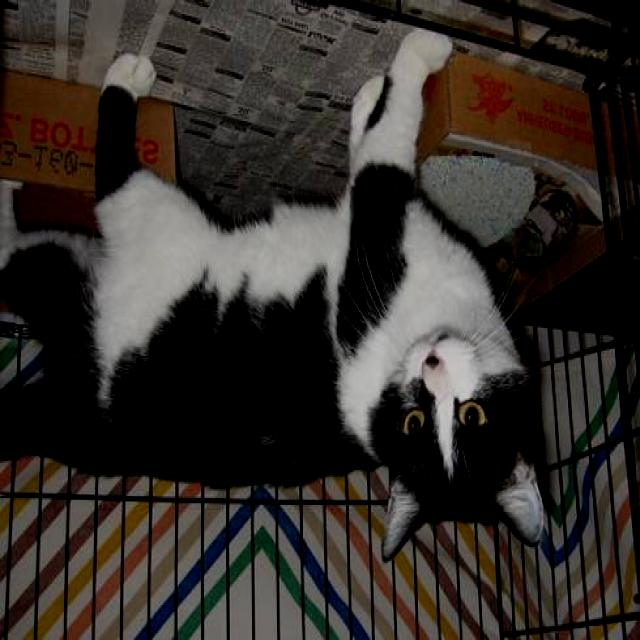Kucing: (0, 59, 598, 551)
